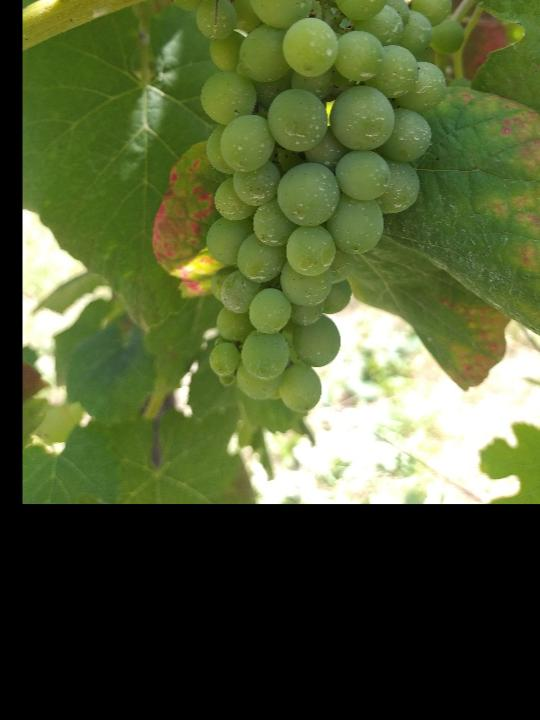grape: (126, 0, 466, 414)
